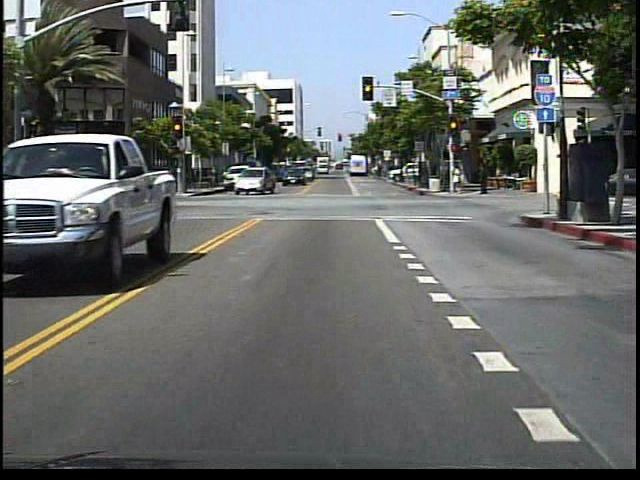person: (451, 161, 465, 197), (476, 161, 490, 196), (165, 166, 180, 196)
